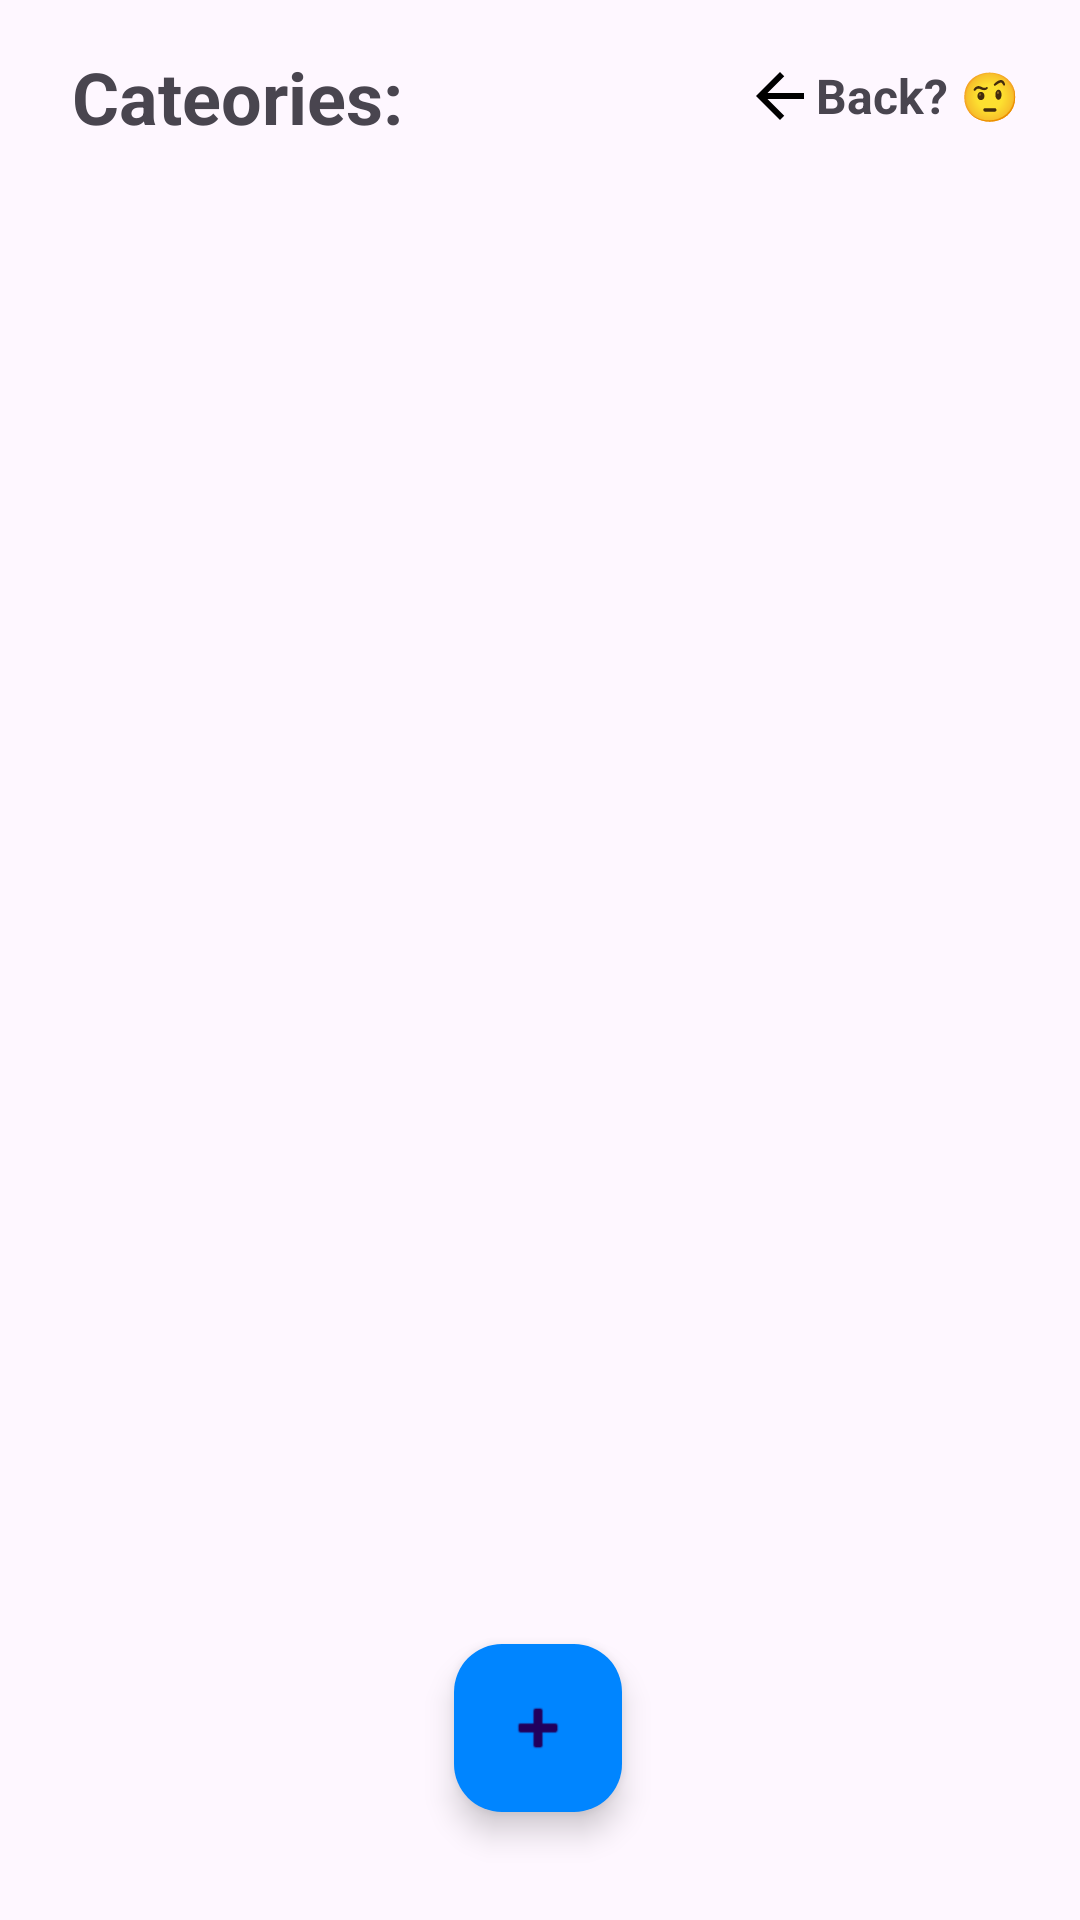

Screen size 1080 × 1920. Icon name, then its center in pixels as point (x, y):
add: point (538, 1728)
